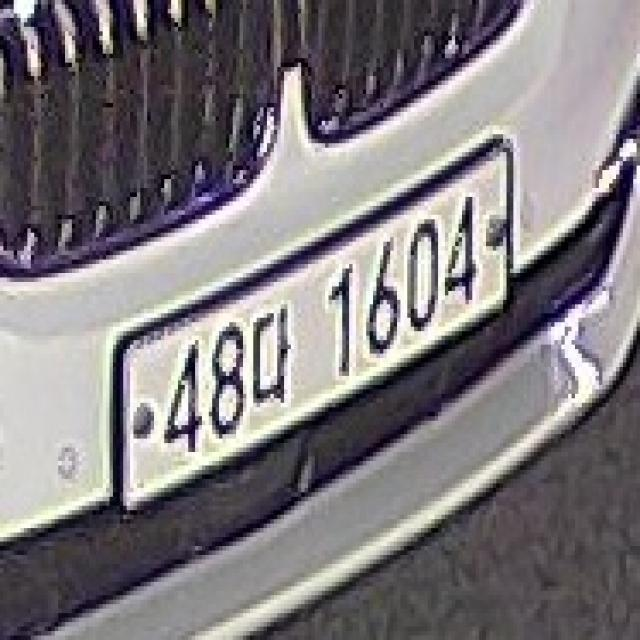0: (409, 202, 443, 345)
1: (322, 250, 362, 391)
4: (157, 322, 206, 476), (448, 183, 484, 321)
6: (368, 228, 406, 366)
8: (209, 304, 253, 454)
da: (257, 290, 297, 424)
license_plate: (96, 107, 528, 563)
